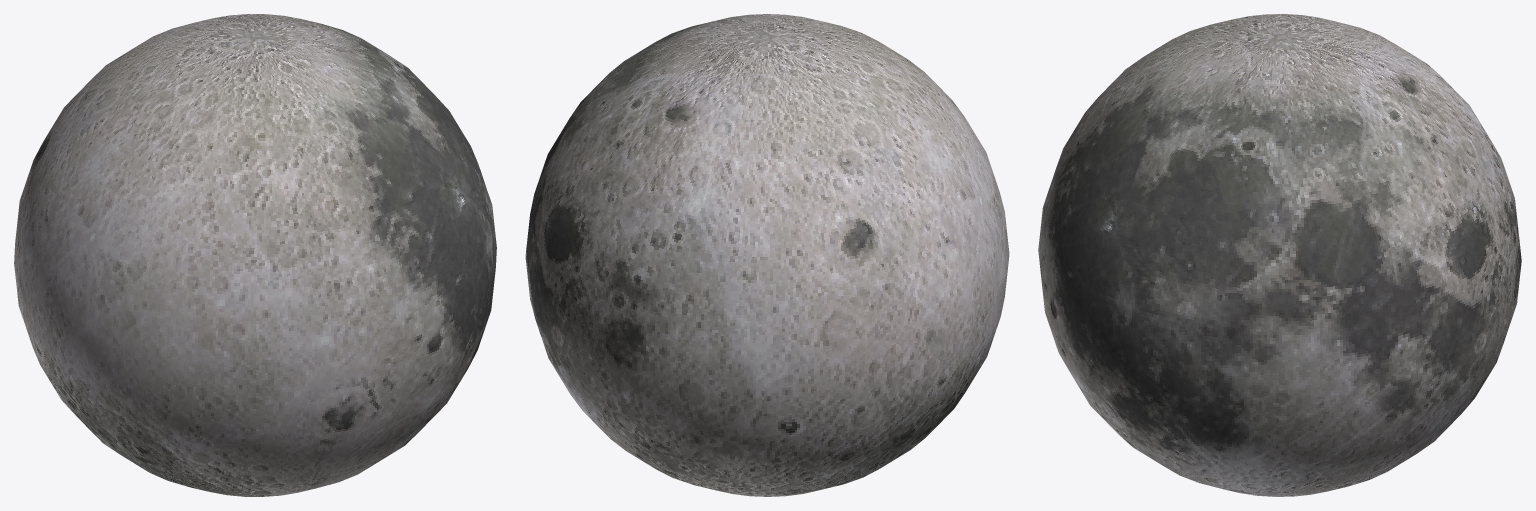
Rendered from moon.gltf.
3 renders of one model, left to right at view 1: azimuth 30°, elevation 25°; view 2: azimuth 150°, elevation 25°; view 3: azimuth 270°, elevation 25°, orthographic.
Parts seen in each view (by area): view 1: moon; view 2: moon; view 3: moon.
Boxes of the visible parts, x1,y1,x2,y2 form: moon: [14, 14, 496, 496]; moon: [525, 14, 1009, 496]; moon: [1038, 14, 1521, 496].
Bounding box in the file's own units: 3.47 × 3.47 × 3.47.
1 material, 1 textured.
